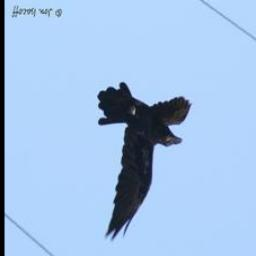Crow: (97, 83, 193, 243)
